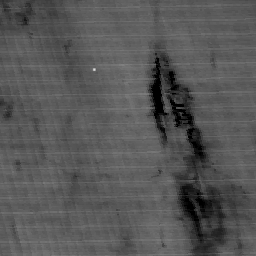Target: (91, 66, 97, 72)
